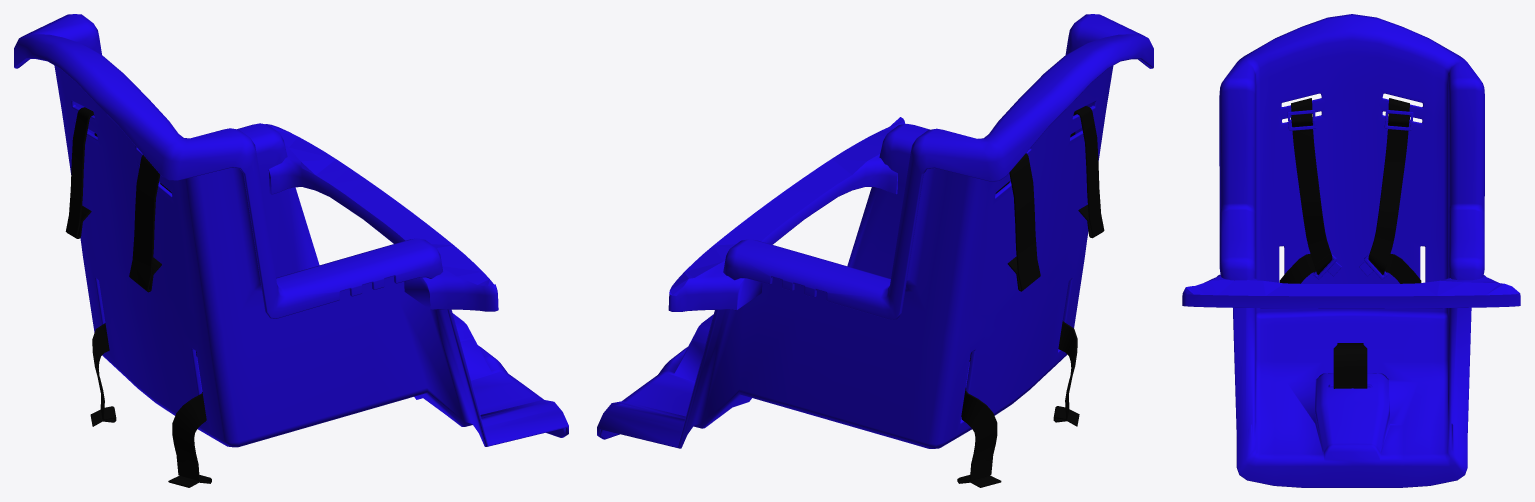
The picture shows the model from 3 angles, left to right: view 1: azimuth 30°, elevation 25°; view 2: azimuth 150°, elevation 25°; view 3: azimuth 270°, elevation 25°; orthographic projection. The views are drawn at different scales.
Parts seen in each view (by area): view 1: Front_Strap_low.002; view 2: Front_Strap_low.002; view 3: Front_Strap_low.002.
Boxes of the visible parts, box(x1,y1,x2,y2) form: Front_Strap_low.002: box(14, 14, 568, 487); Front_Strap_low.002: box(597, 14, 1153, 487); Front_Strap_low.002: box(1182, 14, 1520, 487).
Bounding box in the file's own units: 22.3 × 21.95 × 20.77.
